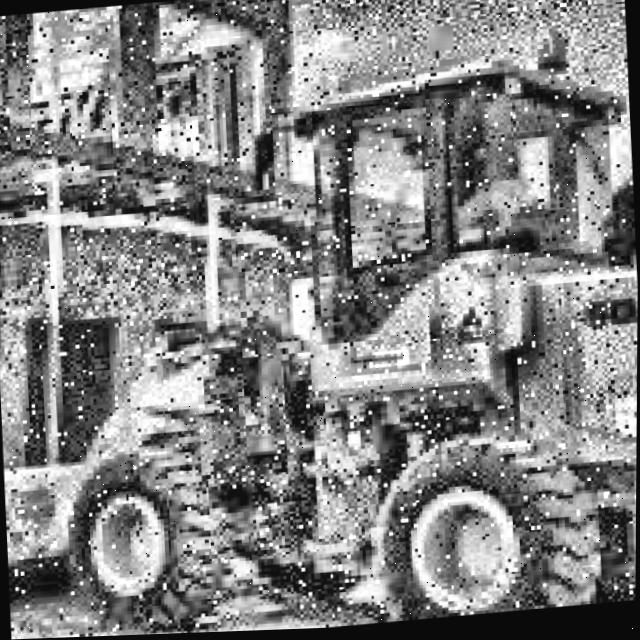buldozerpayloadergrader: (0, 10, 640, 640)
